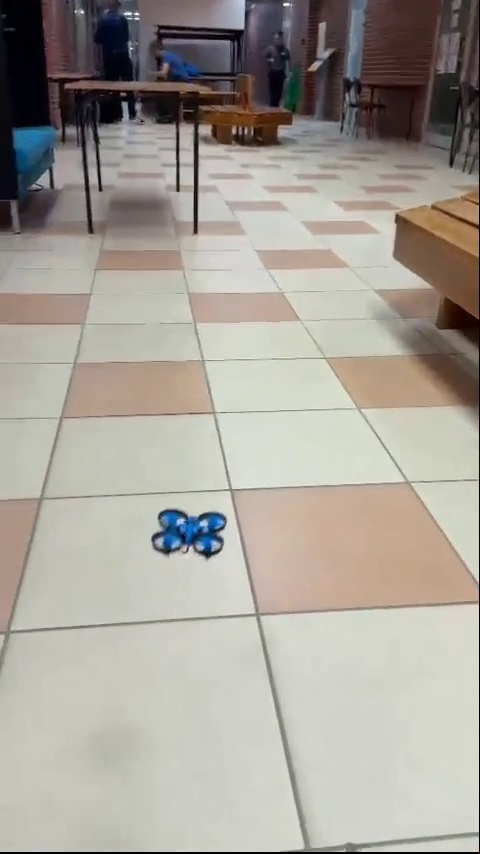drone: (158, 511, 227, 556)
no vest: (90, 0, 141, 129), (258, 34, 301, 120), (144, 36, 194, 90)
